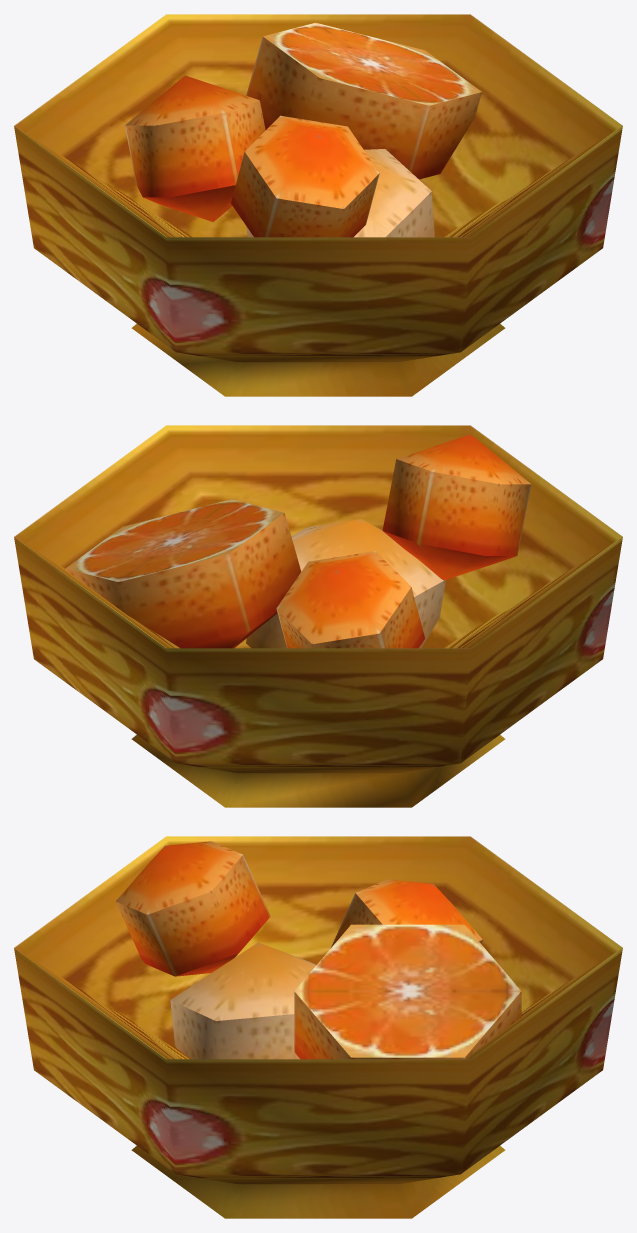
The model's file is fruit.glb.
3 renders of one model, top to bottom at view 1: azimuth 30°, elevation 25°; view 2: azimuth 150°, elevation 25°; view 3: azimuth 270°, elevation 25°, orthographic.
Visible parts, largest first — view 1: fruit_Geoset0; view 2: fruit_Geoset0; view 3: fruit_Geoset0.
Boxes of the visible parts, left/top/right/bottom form: fruit_Geoset0: left=14, top=14, right=622, bottom=396; fruit_Geoset0: left=14, top=425, right=622, bottom=807; fruit_Geoset0: left=14, top=836, right=622, bottom=1218.
Bounding box in the file's own units: 1.12 × 0.625 × 1.29.
Materials: 1 (1 with a texture image).
